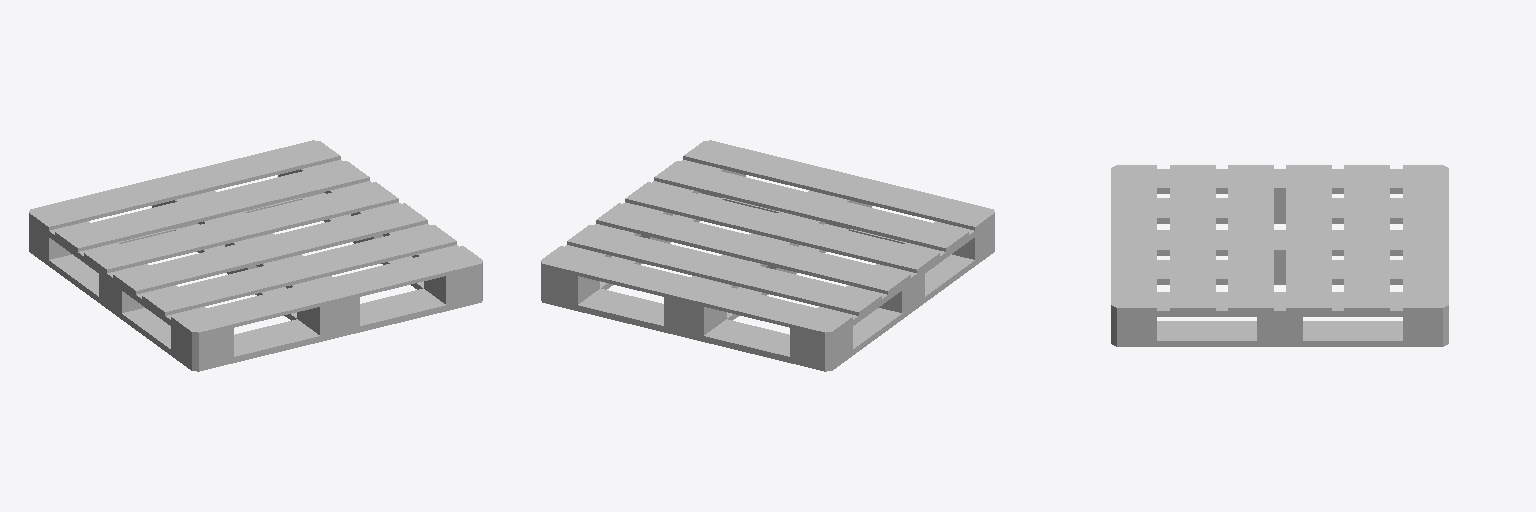
File: palette_LoD_1.obj
3 views of the same model, side by side, from view 1: azimuth 30°, elevation 25°; view 2: azimuth 150°, elevation 25°; view 3: azimuth 270°, elevation 25° (orthographic).
Visible parts, largest first — view 1: SM_WoodenPalette_Mesh; view 2: SM_WoodenPalette_Mesh; view 3: SM_WoodenPalette_Mesh.
Boxes of the visible parts, x1=… form: SM_WoodenPalette_Mesh: x1=29, y1=140, x2=482, y2=371; SM_WoodenPalette_Mesh: x1=541, y1=140, x2=994, y2=371; SM_WoodenPalette_Mesh: x1=1111, y1=165, x2=1448, y2=346.
Bounding box in the file's own units: 1.25 × 0.16 × 1.25.